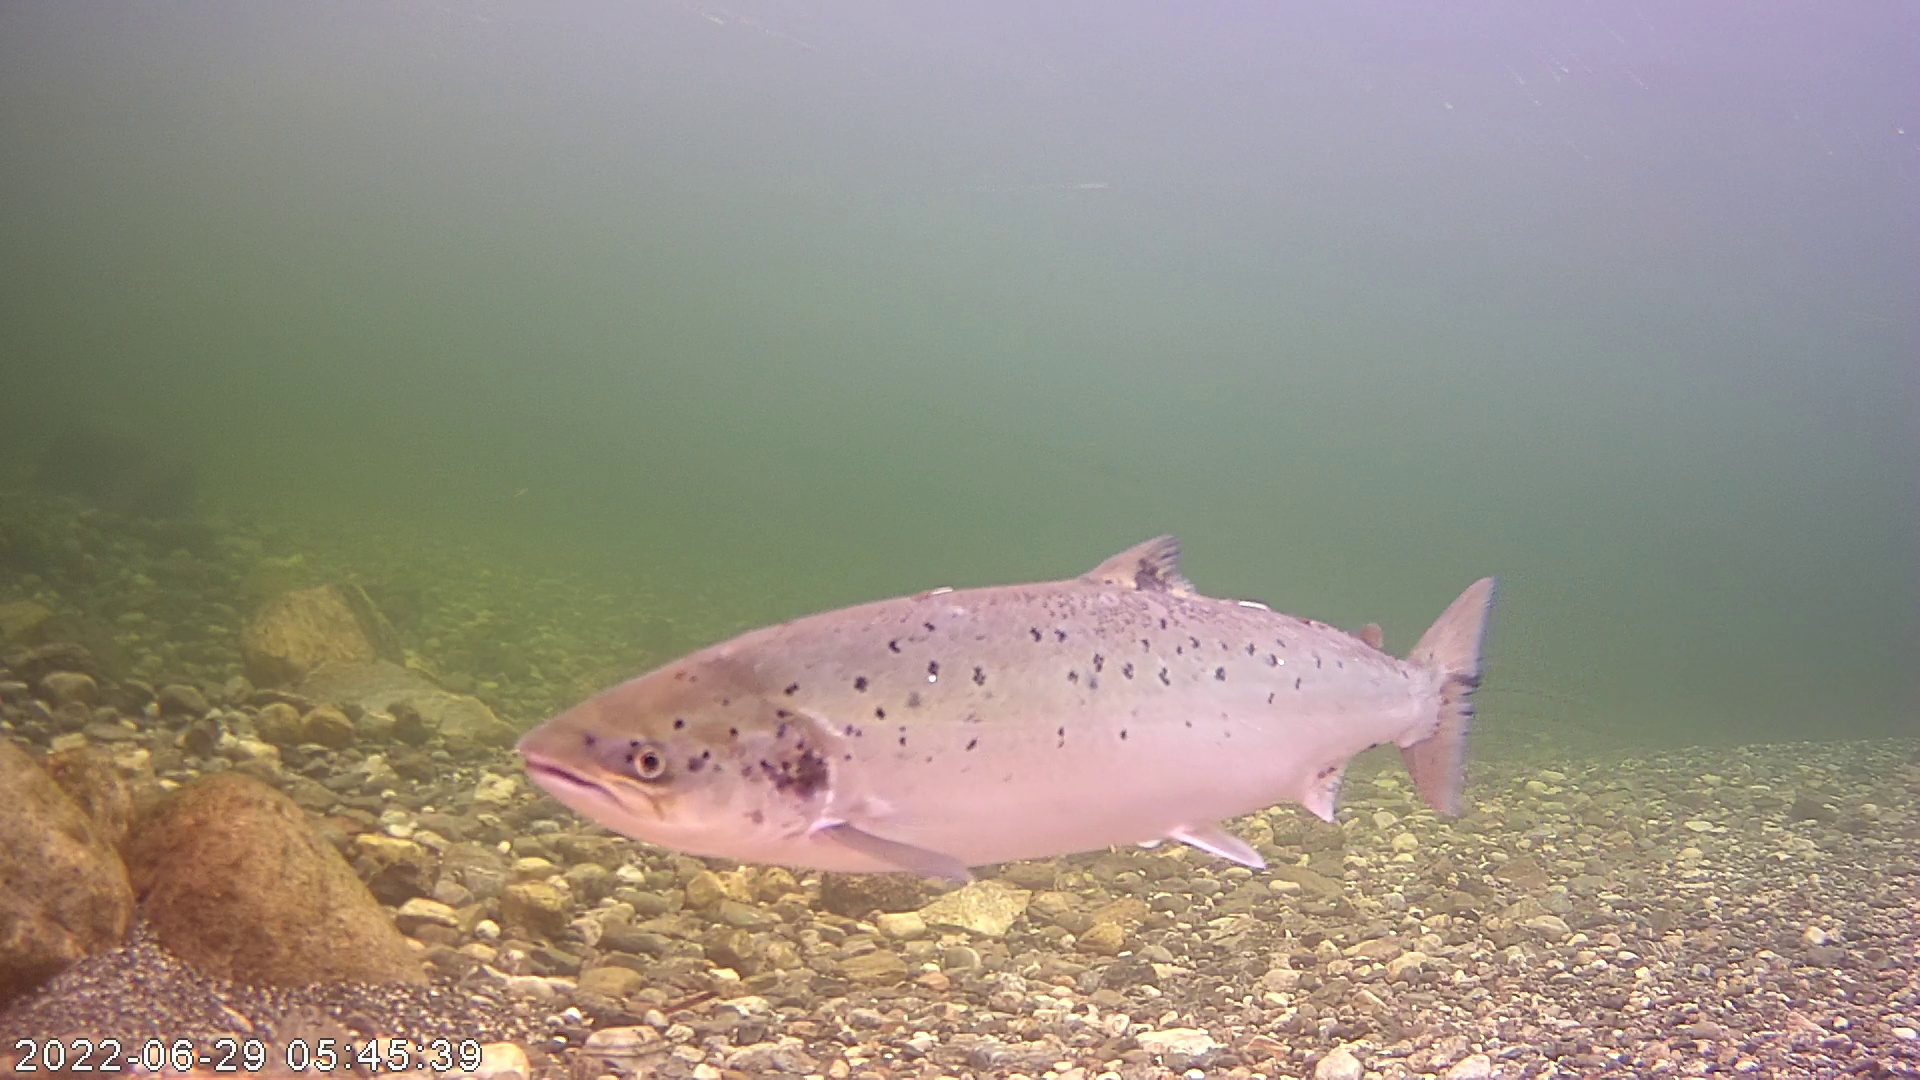salmon: (514, 433, 1506, 895)
